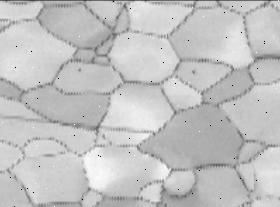good_void: (191, 68, 197, 77), (77, 66, 84, 73), (99, 133, 106, 139)
